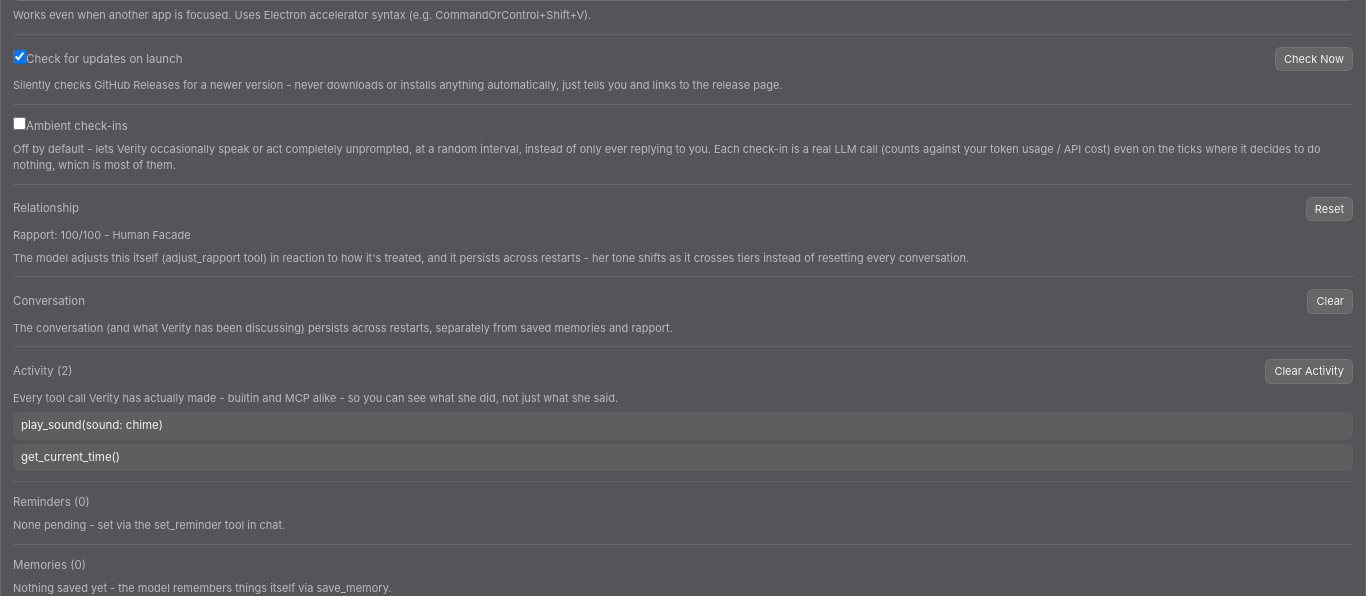
Scenario: SettingsPanel › activity › lists recent activity newest-first and clears it
(page scrolled)
Check: the text "Activity (2)" is shown, box 13,363 -> 72,380
Click the button "Clear Activity": (1309, 372) 1265,359 -> 1353,384
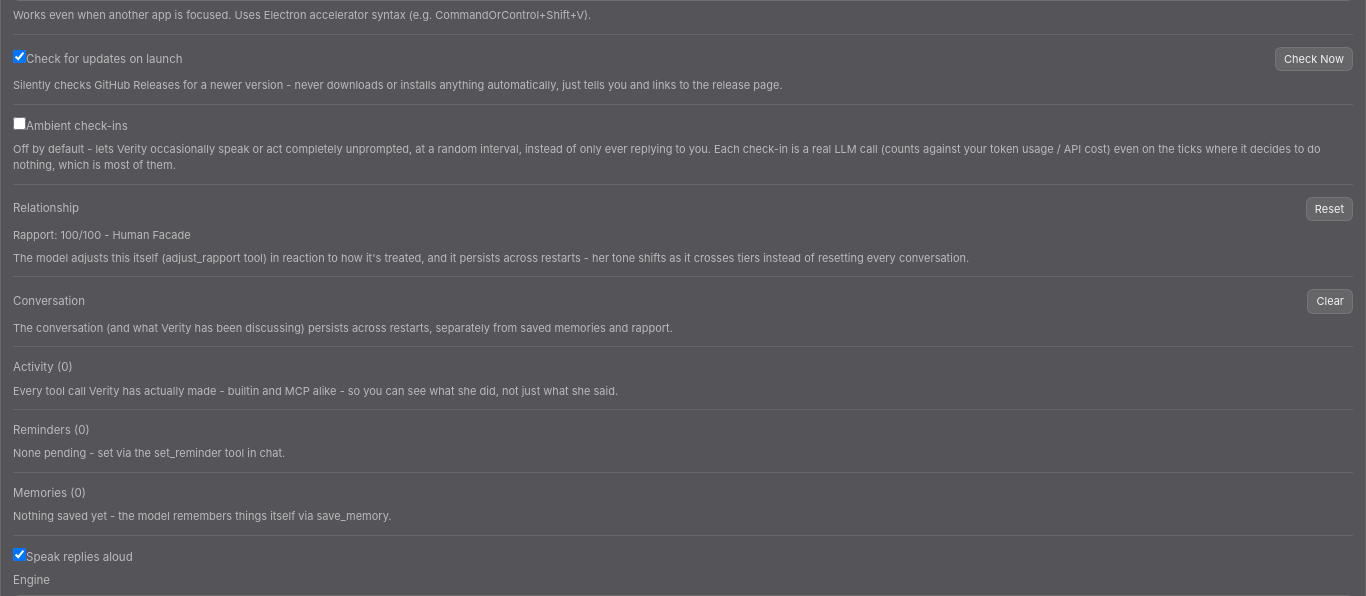
Check: the text "Activity (0)" is shown, box 13,359 -> 73,377
